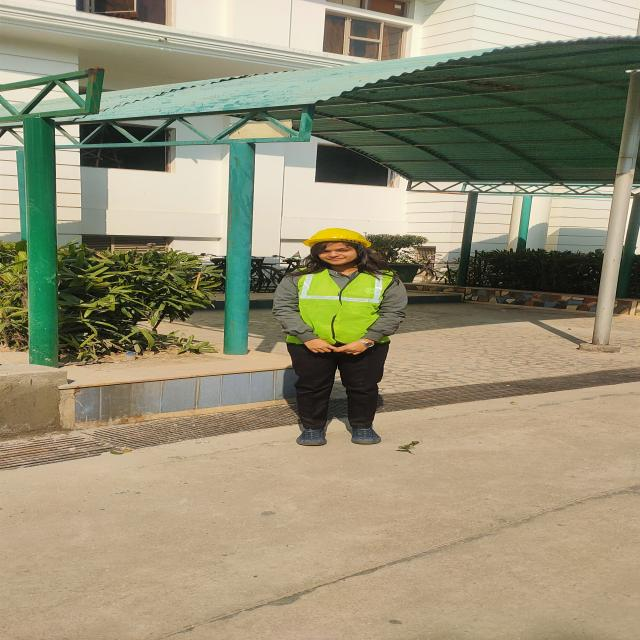safe: (275, 228, 404, 444)
